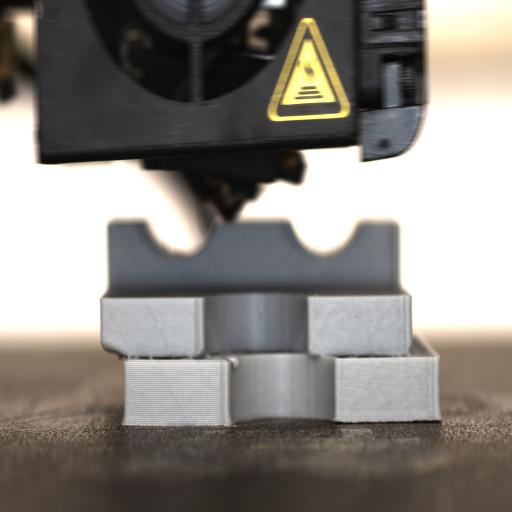layer_shift: (100, 341, 441, 366)
